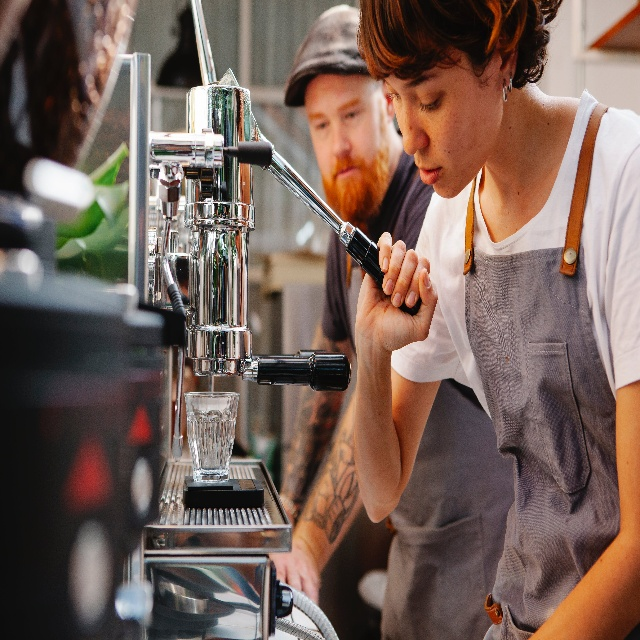Sin_guantes: (354, 231, 439, 354), (268, 535, 320, 604)
